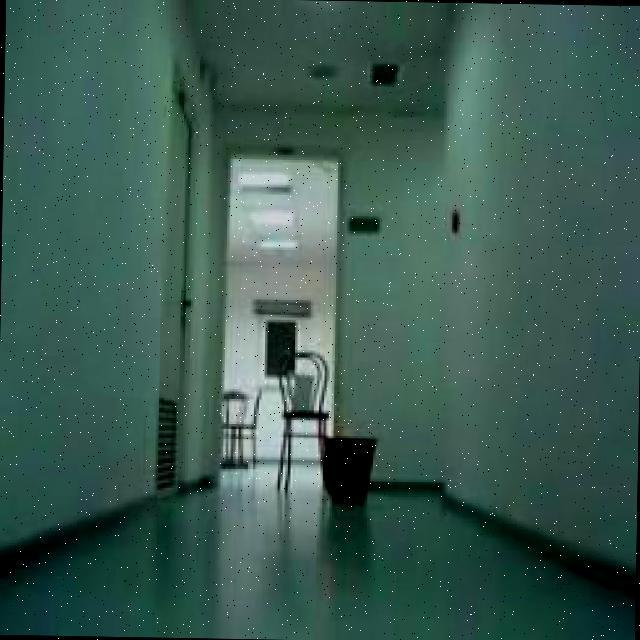Fire: (320, 419, 340, 437)
